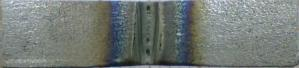soldas: (99, 0, 204, 67)
